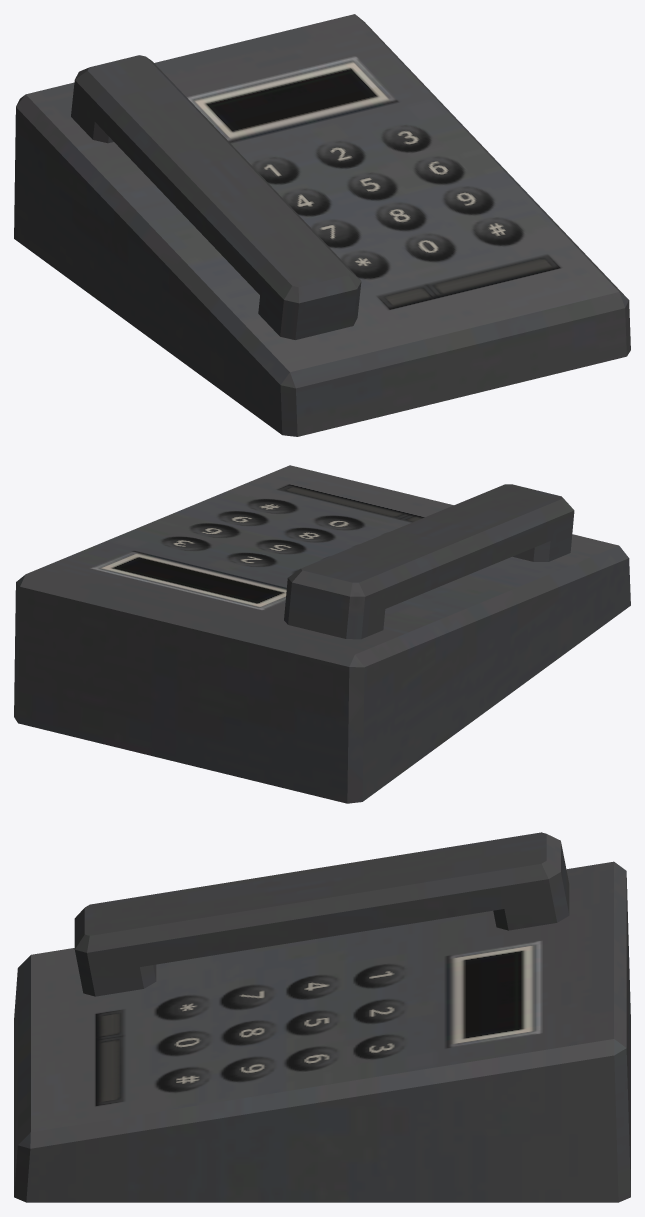
The model's file is phone.fbx.
3 views of the same model, one above another, from view 1: azimuth 30°, elevation 25°; view 2: azimuth 150°, elevation 25°; view 3: azimuth 270°, elevation 25° (orthographic). The views are drawn at different scales.
Visible parts, largest first — view 1: phone.001; view 2: phone.001; view 3: phone.001.
Part boxes in pixels (bbox=[...]): phone.001: bbox=[14, 14, 630, 436]; phone.001: bbox=[14, 465, 630, 803]; phone.001: bbox=[14, 832, 630, 1202].
Size of the model in its own units: 0.1995 by 0.1012 by 0.2771.
Materials: 1 (1 with a texture image).
